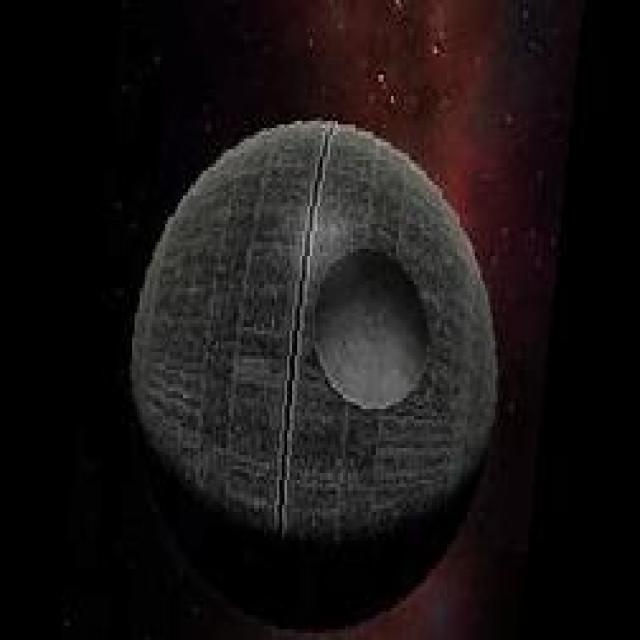Death Star: (117, 116, 521, 626)
